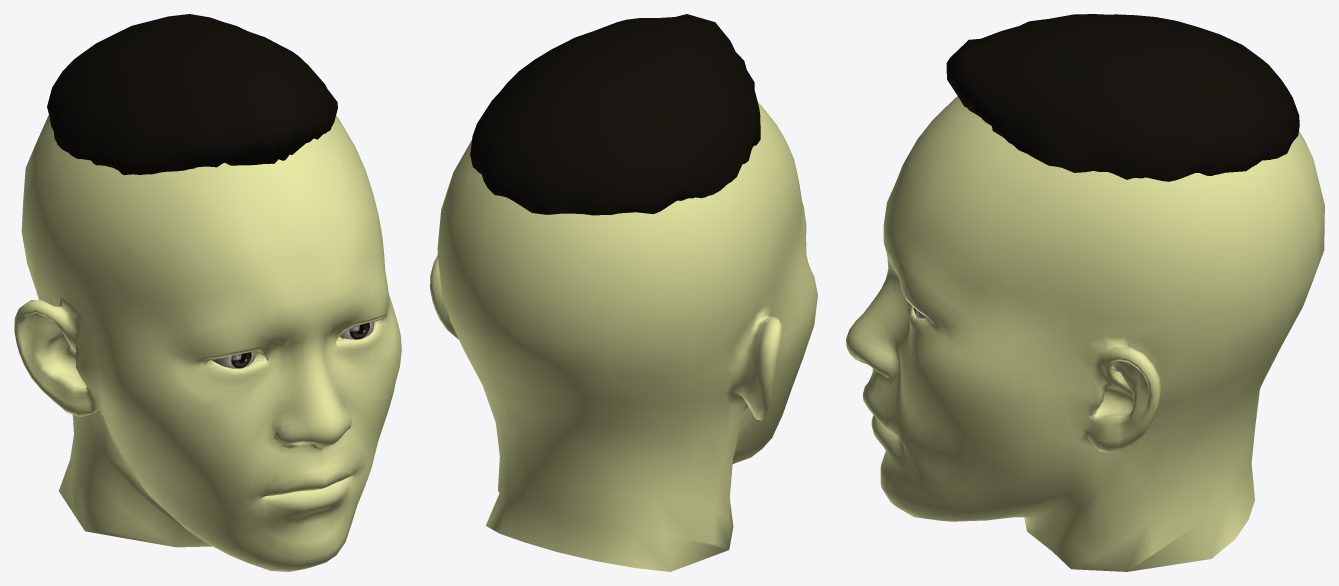
The model's file is rp_and.glb.
3 renders of one model, left to right at view 1: azimuth 30°, elevation 25°; view 2: azimuth 150°, elevation 25°; view 3: azimuth 270°, elevation 25°, orthographic. The views are drawn at different scales.
Visible parts, largest first — view 1: head_lod3_mesh, Wolf3D_Hair; view 2: head_lod3_mesh, Wolf3D_Hair; view 3: head_lod3_mesh, Wolf3D_Hair.
Part boxes in pixels (bbox=[...]): head_lod3_mesh: bbox=[14, 114, 401, 571]; Wolf3D_Hair: bbox=[47, 14, 337, 174]; head_lod3_mesh: bbox=[430, 102, 817, 571]; Wolf3D_Hair: bbox=[470, 14, 760, 215]; head_lod3_mesh: bbox=[846, 96, 1324, 571]; Wolf3D_Hair: bbox=[946, 14, 1299, 181].
Size of the model in its own units: 0.2447 by 0.3239 by 0.2828.
4 materials, 3 textured.
